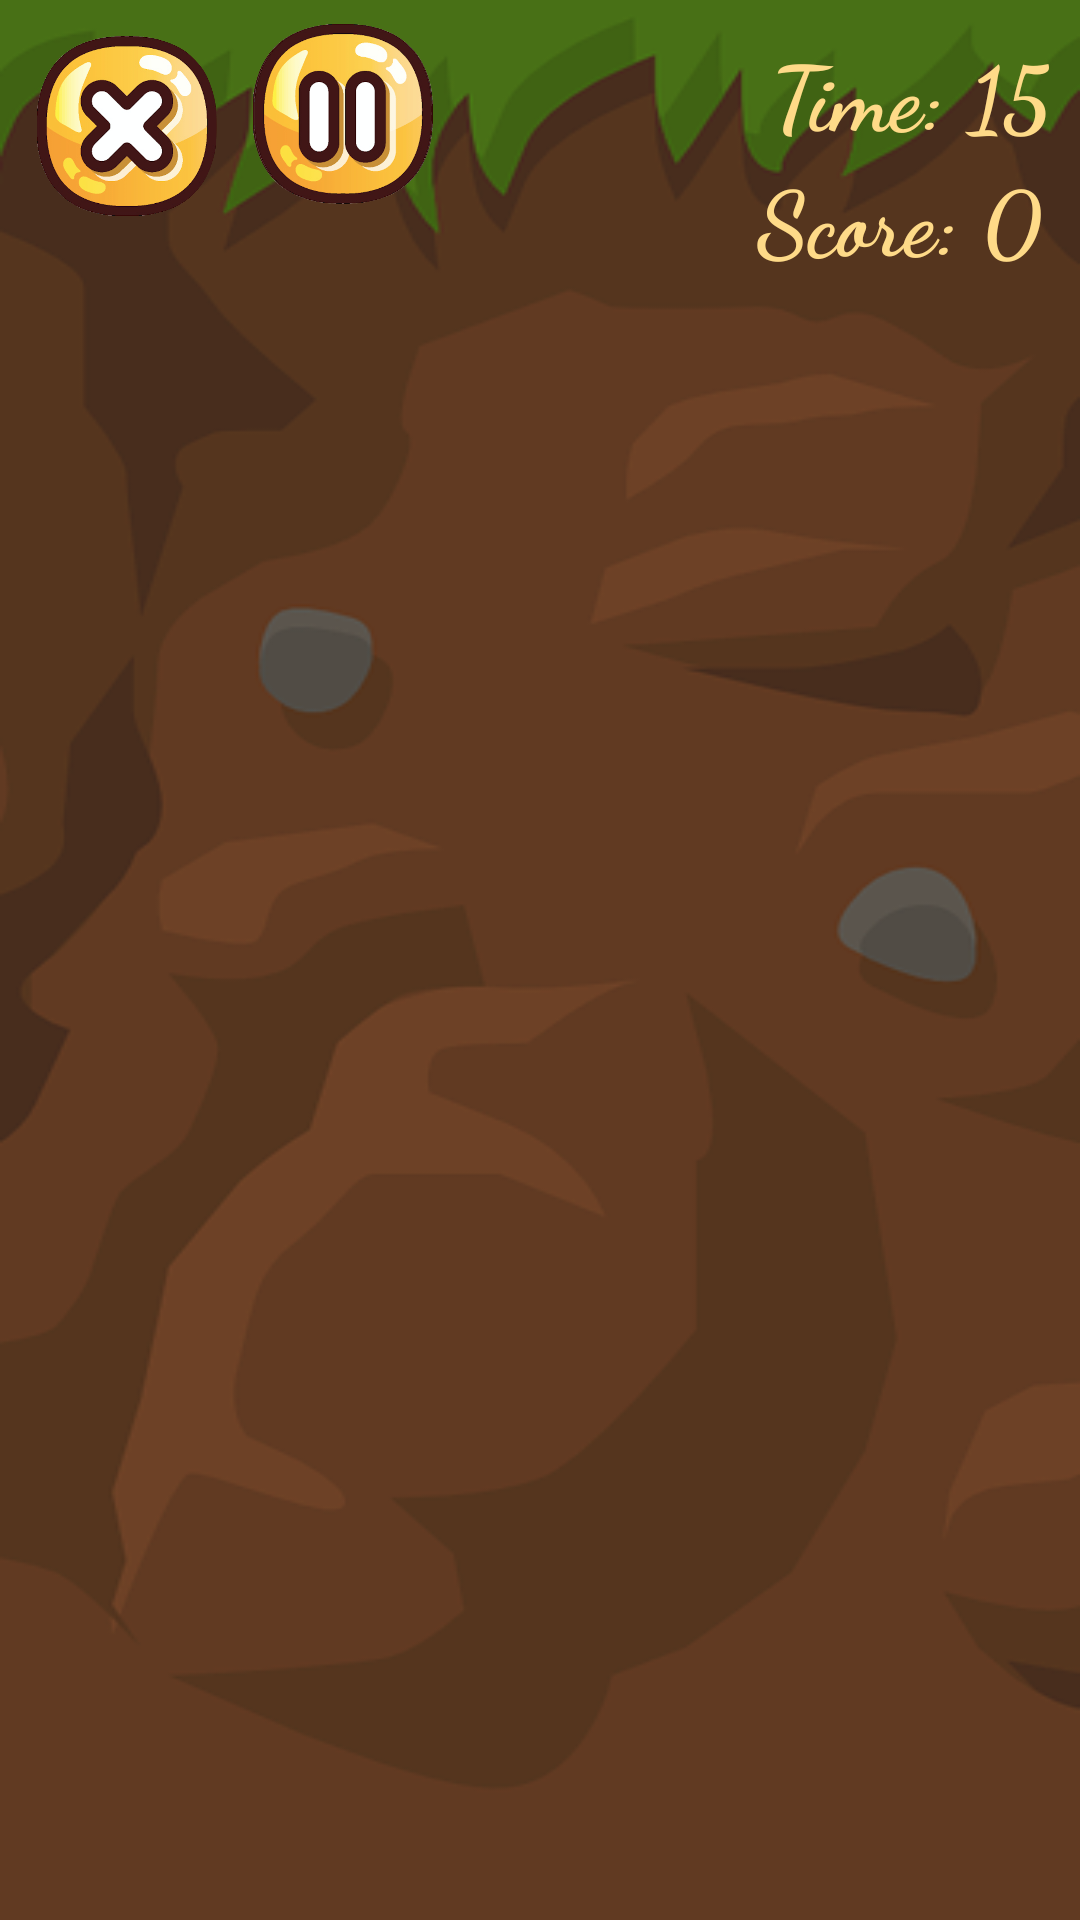

Icons on this 1080px×1920px Android screen, each with the point to tap as (x,y):
close: (127,126)
